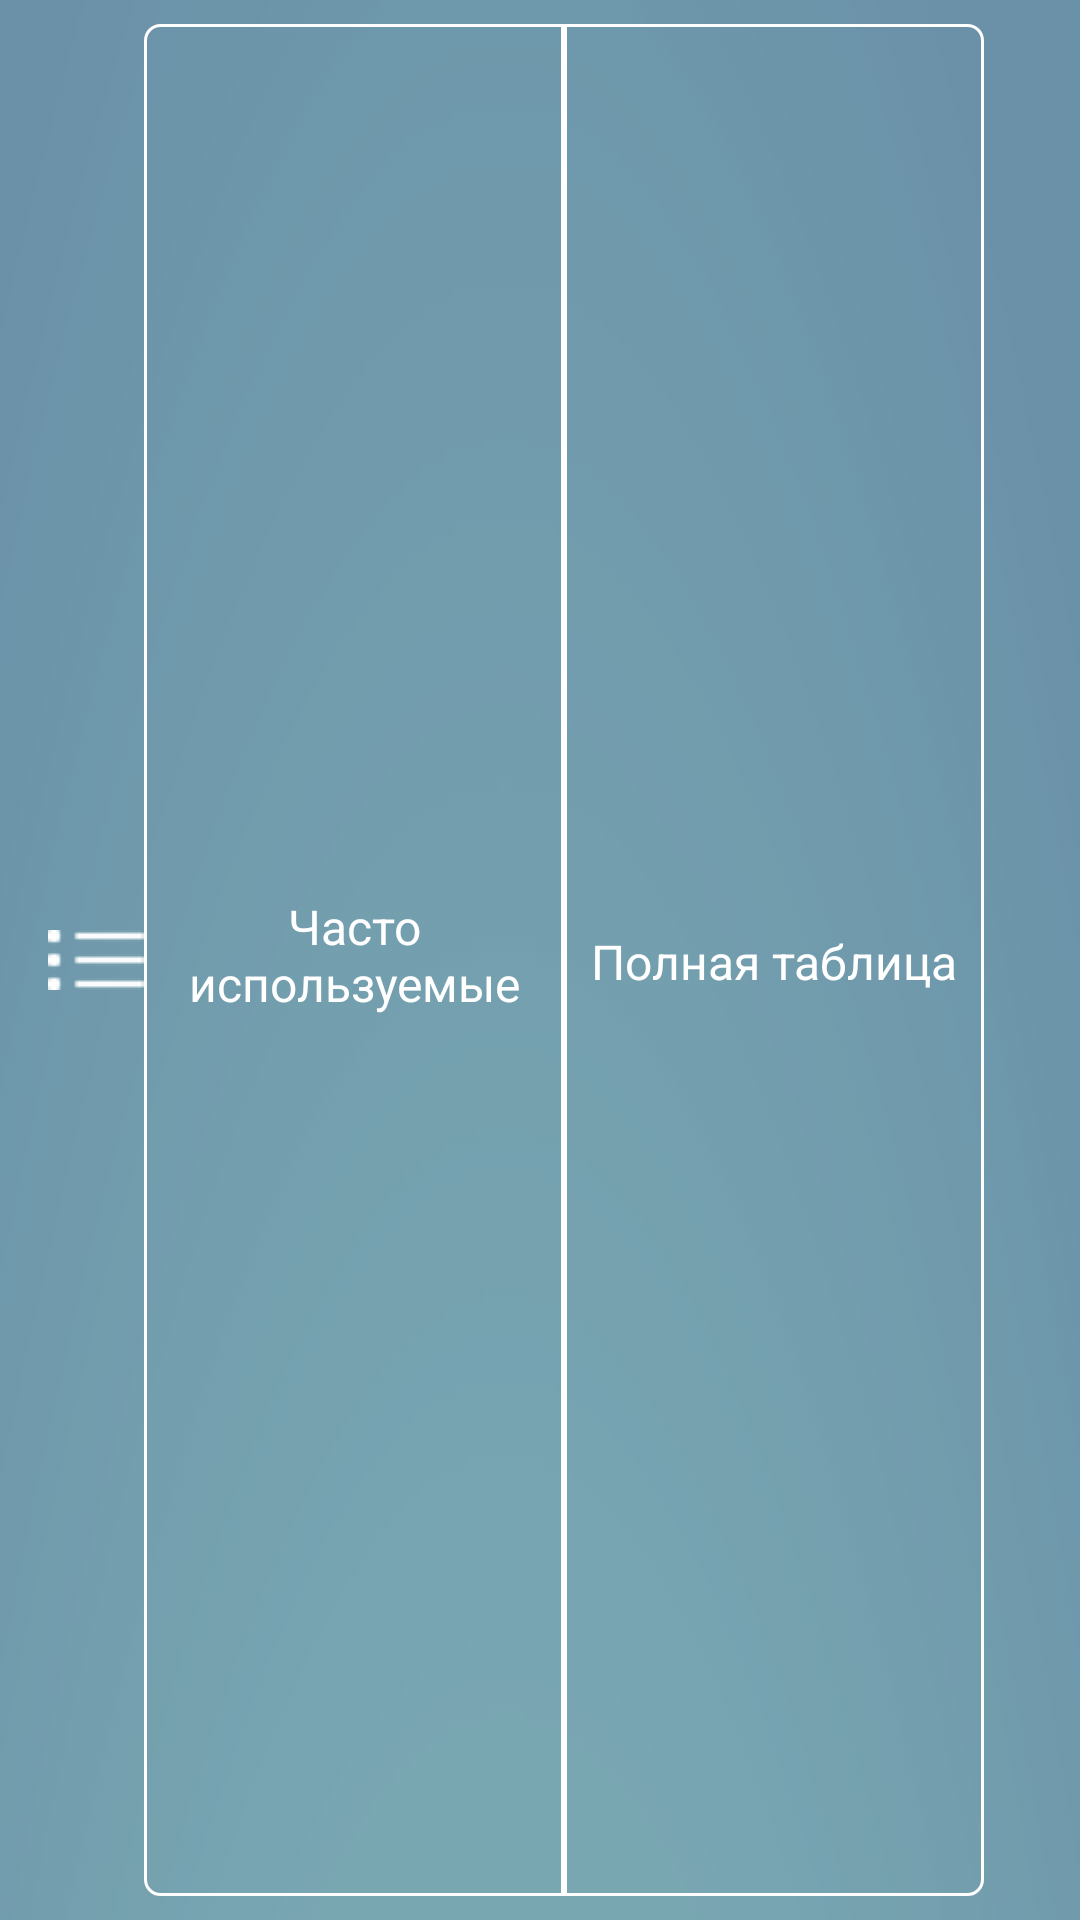

Where to tap for icons on this 1080px×1920px app screen, as point (x, y):
menu: point (96, 960)
